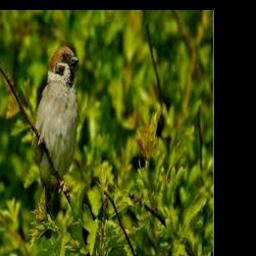Sparrow: (33, 46, 79, 239)
